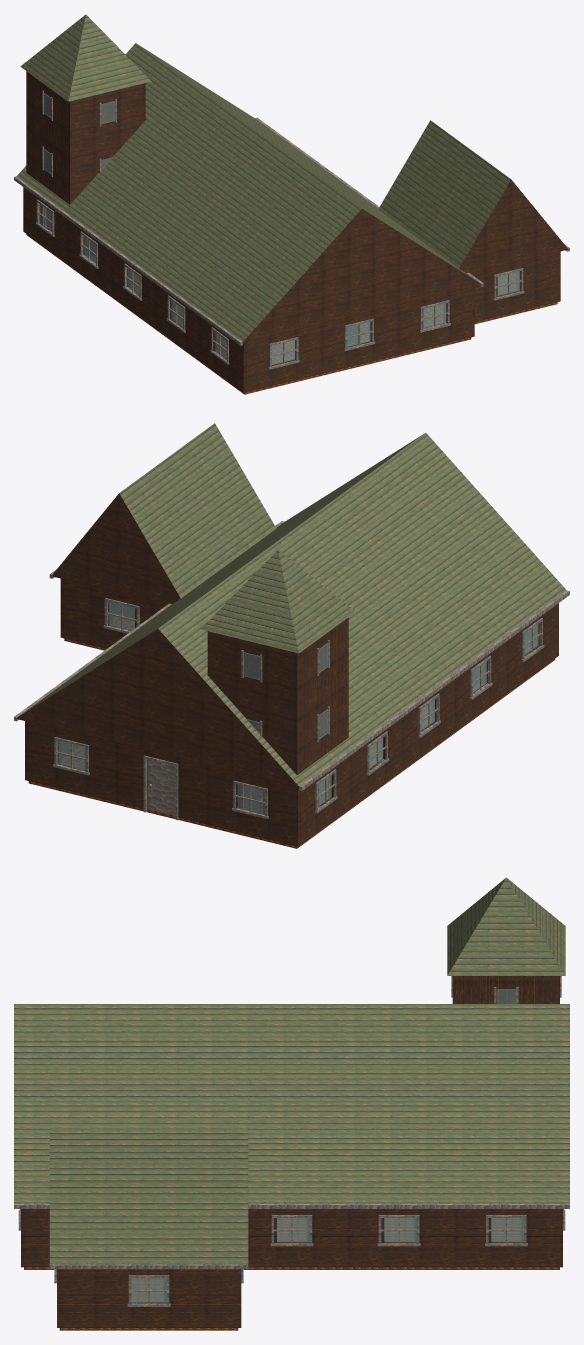
File: greywell-chapel.gltf
3 renders of one model, top to bottom at view 1: azimuth 30°, elevation 25°; view 2: azimuth 150°, elevation 25°; view 3: azimuth 270°, elevation 25°, orthographic. The views are drawn at different scales.
Parts seen in each view (by area): view 1: roof-L0-slate, exterior-L0-stone, roof-L0-stone, tower-L0-stone, tower-L0-slate, trim-L0-dark-wood, glazing-L0-glass, floor-L0-floor, roof-L0-dark-wood, tower-L0-glass; view 2: roof-L0-slate, exterior-L0-stone, roof-L0-stone, tower-L0-stone, tower-L0-slate, trim-L0-dark-wood, glazing-L0-glass, roof-L0-dark-wood, floor-L0-floor, tower-L0-glass, door-leaf-L0-dark-wood, tower-L0-dark-wood; view 3: roof-L0-slate, exterior-L0-stone, tower-L0-slate, floor-L0-floor, roof-L0-dark-wood, glazing-L0-glass, tower-L0-stone, trim-L0-dark-wood.
Boxes of the visible parts, left/top/right/bottom form: roof-L0-slate: left=16, top=43, right=510, bottom=341; exterior-L0-stone: left=23, top=187, right=560, bottom=392; roof-L0-stone: left=243, top=179, right=568, bottom=342; tower-L0-stone: left=26, top=71, right=145, bottom=256; tower-L0-slate: left=20, top=14, right=151, bottom=101; trim-L0-dark-wood: left=35, top=199, right=524, bottom=369; glazing-L0-glass: left=40, top=205, right=519, bottom=364; floor-L0-floor: left=26, top=234, right=557, bottom=394; roof-L0-dark-wood: left=14, top=117, right=569, bottom=345; tower-L0-glass: left=43, top=93, right=115, bottom=229; roof-L0-slate: left=18, top=423, right=566, bottom=786; exterior-L0-stone: left=25, top=578, right=558, bottom=846; roof-L0-stone: left=17, top=493, right=298, bottom=787; tower-L0-stone: left=207, top=617, right=348, bottom=813; tower-L0-slate: left=200, top=550, right=355, bottom=653; trim-L0-dark-wood: left=53, top=598, right=544, bottom=820; glazing-L0-glass: left=58, top=602, right=538, bottom=813; roof-L0-dark-wood: left=14, top=521, right=569, bottom=790; floor-L0-floor: left=28, top=617, right=555, bottom=848; tower-L0-glass: left=243, top=643, right=328, bottom=812; door-leaf-L0-dark-wood: left=148, top=759, right=175, bottom=815; tower-L0-dark-wood: left=241, top=640, right=329, bottom=813; roof-L0-slate: left=14, top=1004, right=569, bottom=1264; exterior-L0-stone: left=21, top=1209, right=562, bottom=1327; tower-L0-slate: left=447, top=877, right=565, bottom=975; floor-L0-floor: left=24, top=1218, right=559, bottom=1330; roof-L0-dark-wood: left=14, top=1203, right=569, bottom=1269; glazing-L0-glass: left=131, top=1218, right=524, bottom=1302; tower-L0-stone: left=452, top=976, right=559, bottom=1003; trim-L0-dark-wood: left=18, top=1209, right=565, bottom=1306.
Size of the model in its own units: 13.66 by 8.63 by 15.56.
Materials: 7 (6 with a texture image).
